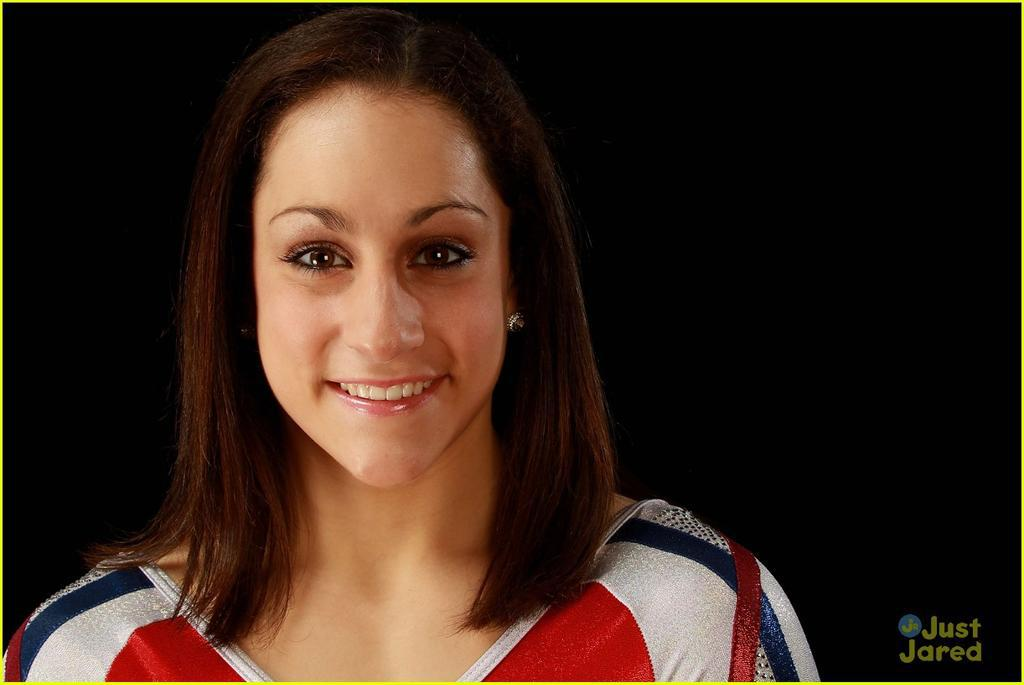face: (263, 99, 503, 475)
